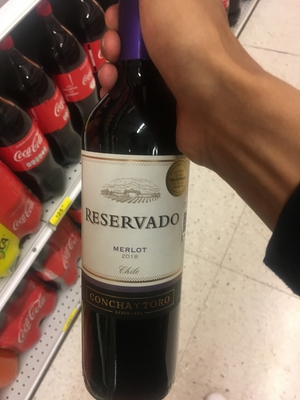reservado merlot: (70, 27, 215, 382)
